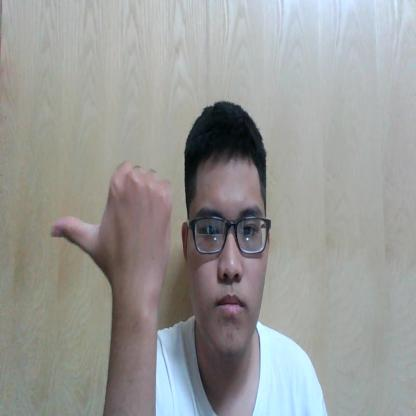right: (51, 160, 174, 292)
